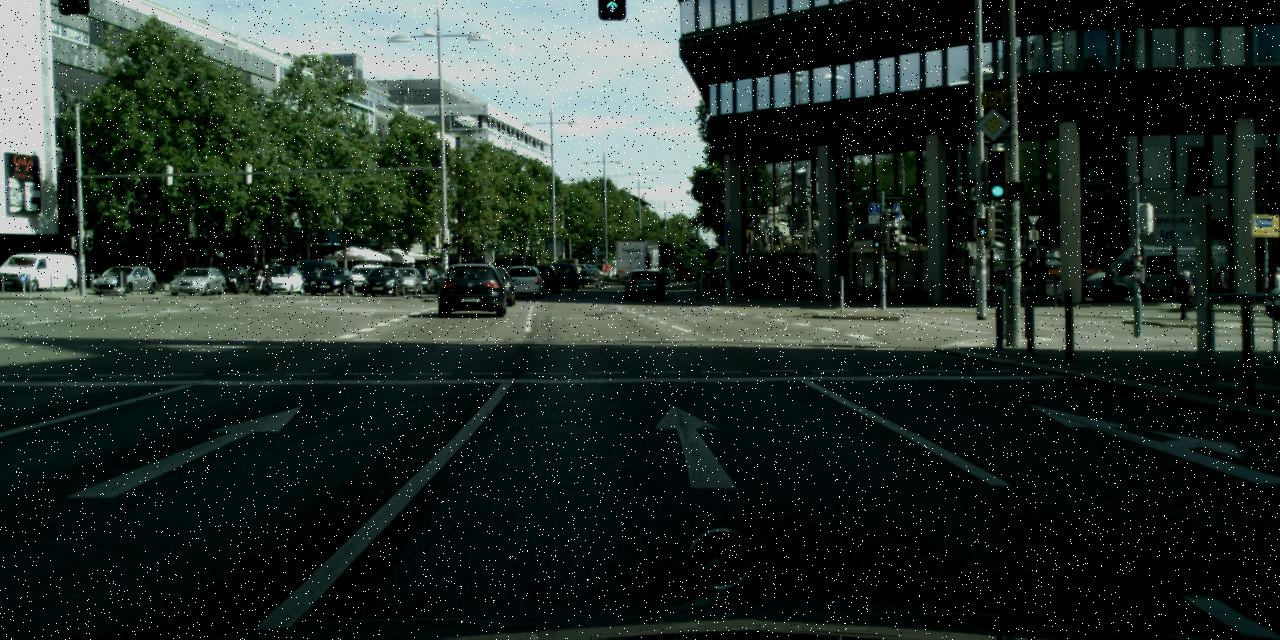ped: (1176, 270, 1196, 320), (1214, 266, 1229, 303), (1268, 266, 1279, 306), (260, 264, 272, 292)
